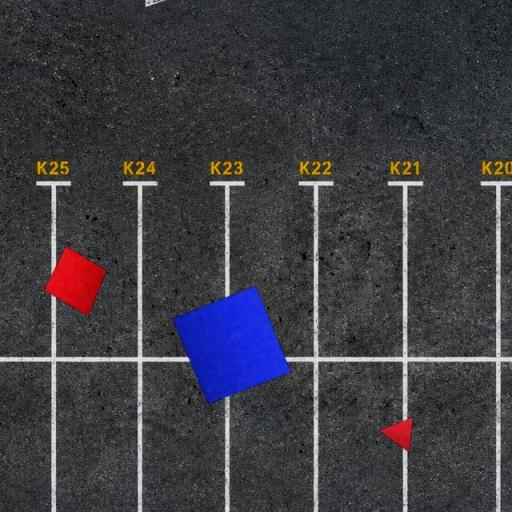BLUE_SQUARE: (171, 285, 292, 405)
RED_SQUARE: (43, 246, 107, 316)
